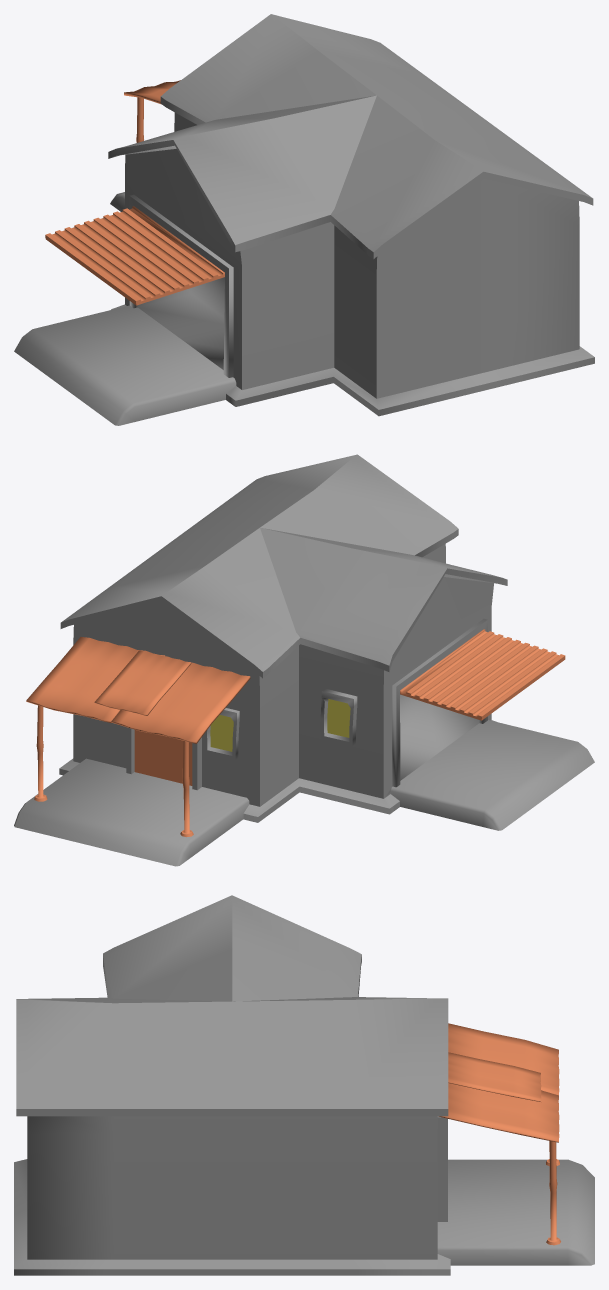
The model's file is SM_House_main.fbx.
3 views of the same model, one above another, from view 1: azimuth 30°, elevation 25°; view 2: azimuth 150°, elevation 25°; view 3: azimuth 270°, elevation 25° (orthographic). The views are drawn at different scales.
Visible parts, largest first — view 1: SM_House; view 2: SM_House; view 3: SM_House.
Boxes of the visible parts, x1=… form: SM_House: x1=14, y1=14, x2=594, y2=425; SM_House: x1=14, y1=454, x2=594, y2=866; SM_House: x1=14, y1=895, x2=594, y2=1275.
Bounding box in the file's own units: 2298 × 2690 × 1153.
